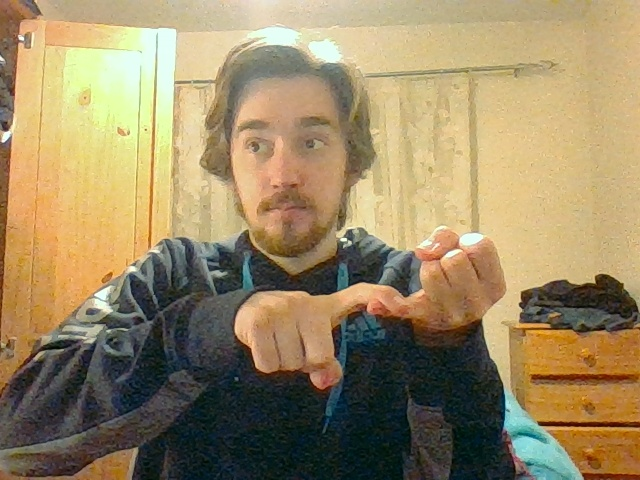step: (251, 226, 508, 390)
